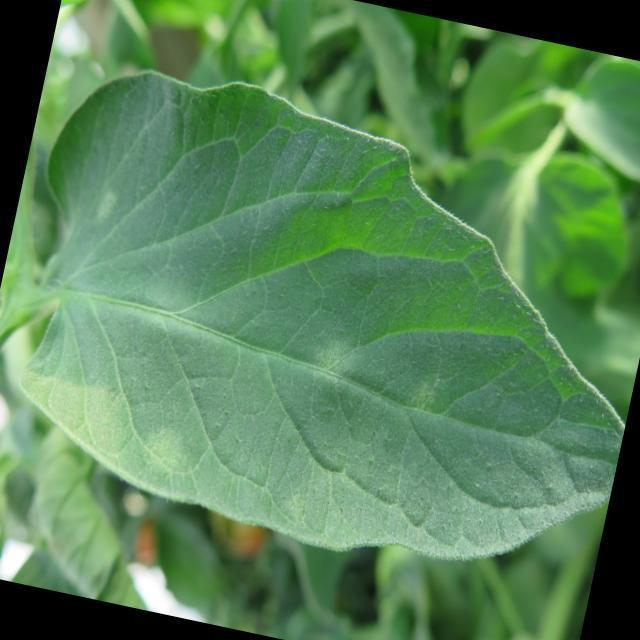Mosaic Virus: (7, 123, 480, 558)
